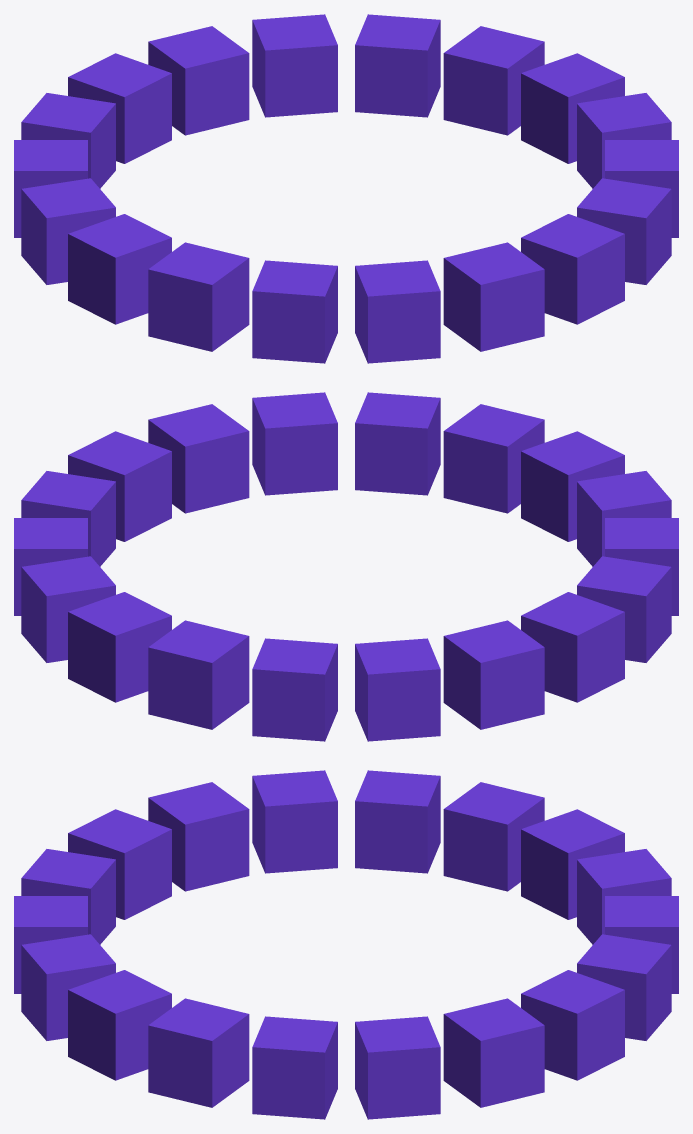
3 renders of one model, top to bottom at view 1: azimuth 30°, elevation 25°; view 2: azimuth 150°, elevation 25°; view 3: azimuth 270°, elevation 25°, orthographic.
Visible parts, largest first — view 1: Cube; view 2: Cube; view 3: Cube.
Boxes of the visible parts, x1,y1,x2,y2 form: Cube: (14,14,678,363); Cube: (14,392,678,741); Cube: (14,770,678,1119).
Size of the model in its own units: 1807 by 200 by 1800.
